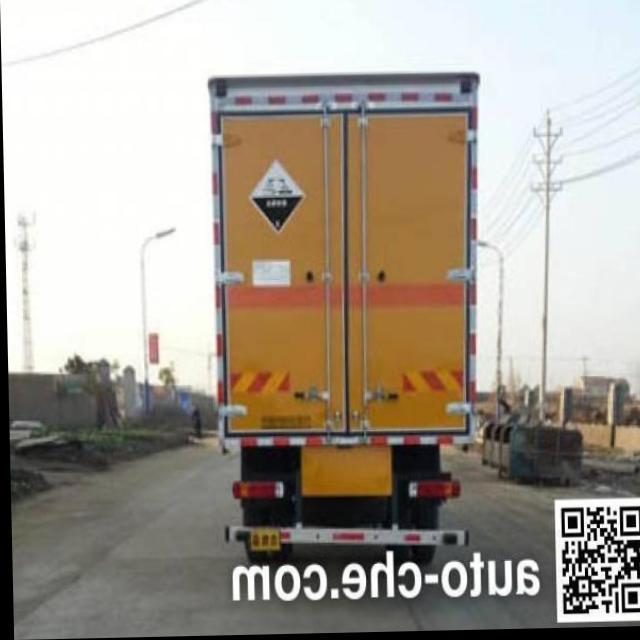covered: (204, 81, 484, 544)
